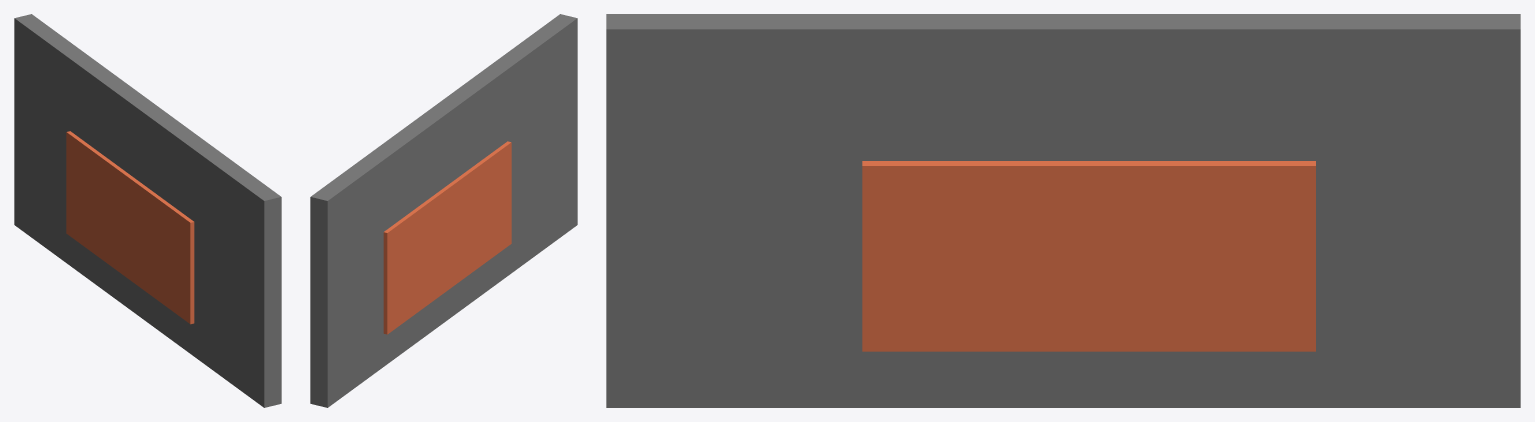
Rendered from wallWithGlass.fbx.
The picture shows the model from 3 angles, left to right: view 1: azimuth 30°, elevation 25°; view 2: azimuth 150°, elevation 25°; view 3: azimuth 270°, elevation 25°; orthographic projection. The views are drawn at different scales.
Visible parts, largest first — view 1: Box001; view 2: Box001; view 3: Box001.
Boxes of the visible parts, <box> form: Box001: <box>14,14,281,407</box>; Box001: <box>310,14,577,407</box>; Box001: <box>606,14,1520,407</box>.
Size of the model in its own units: 7.09 by 52.64 by 115.
